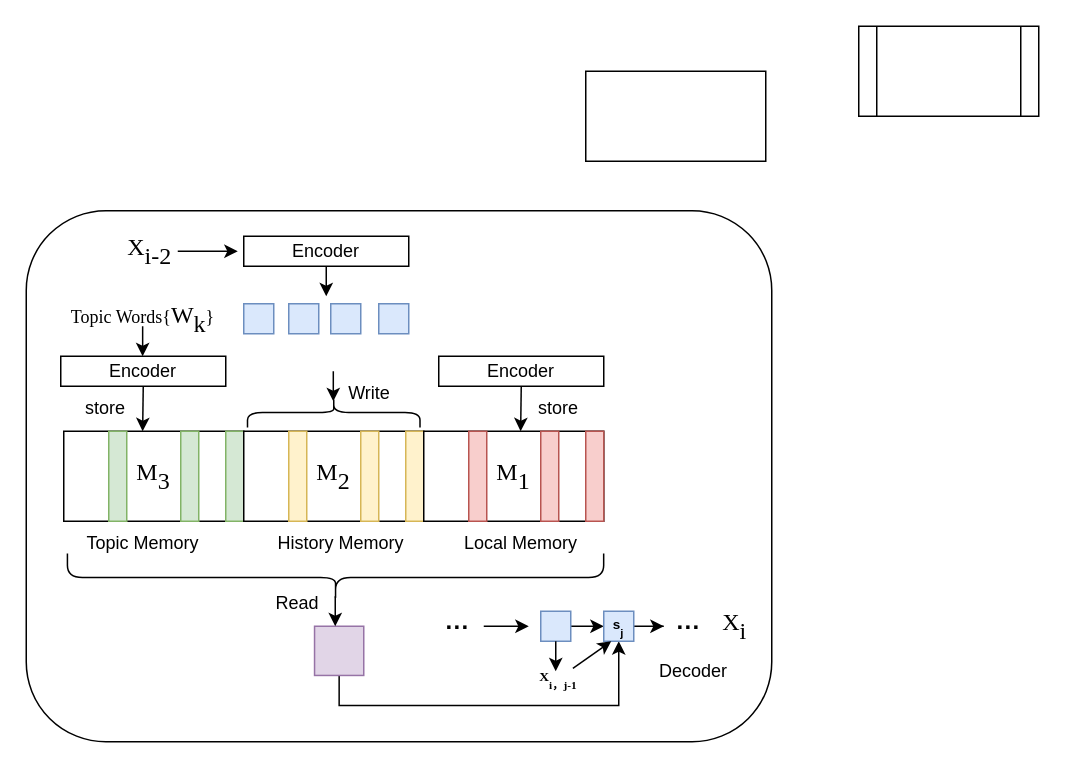
This 1065x768 diagram has some shape labels left out. Each missing label, with the centre of its shape:
h i-2，j: (x=333, y=412)
O j: (x=338, y=650)
s j-1: (x=555, y=625)
